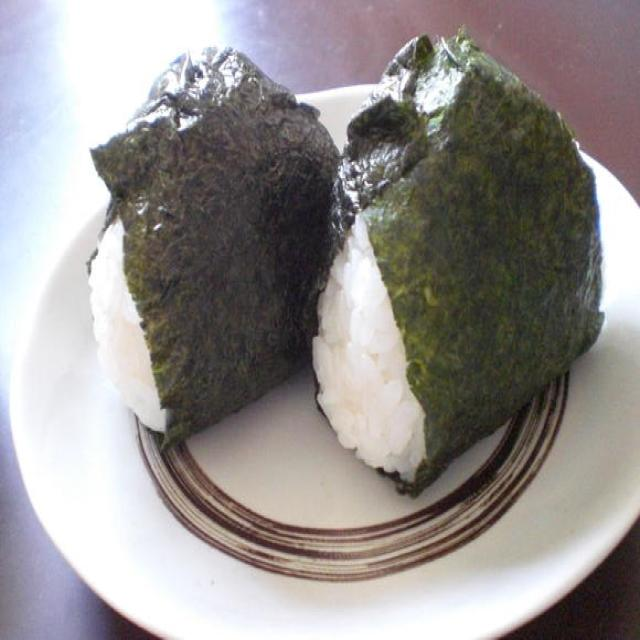米饭主食: (311, 21, 600, 448), (75, 34, 342, 403)
